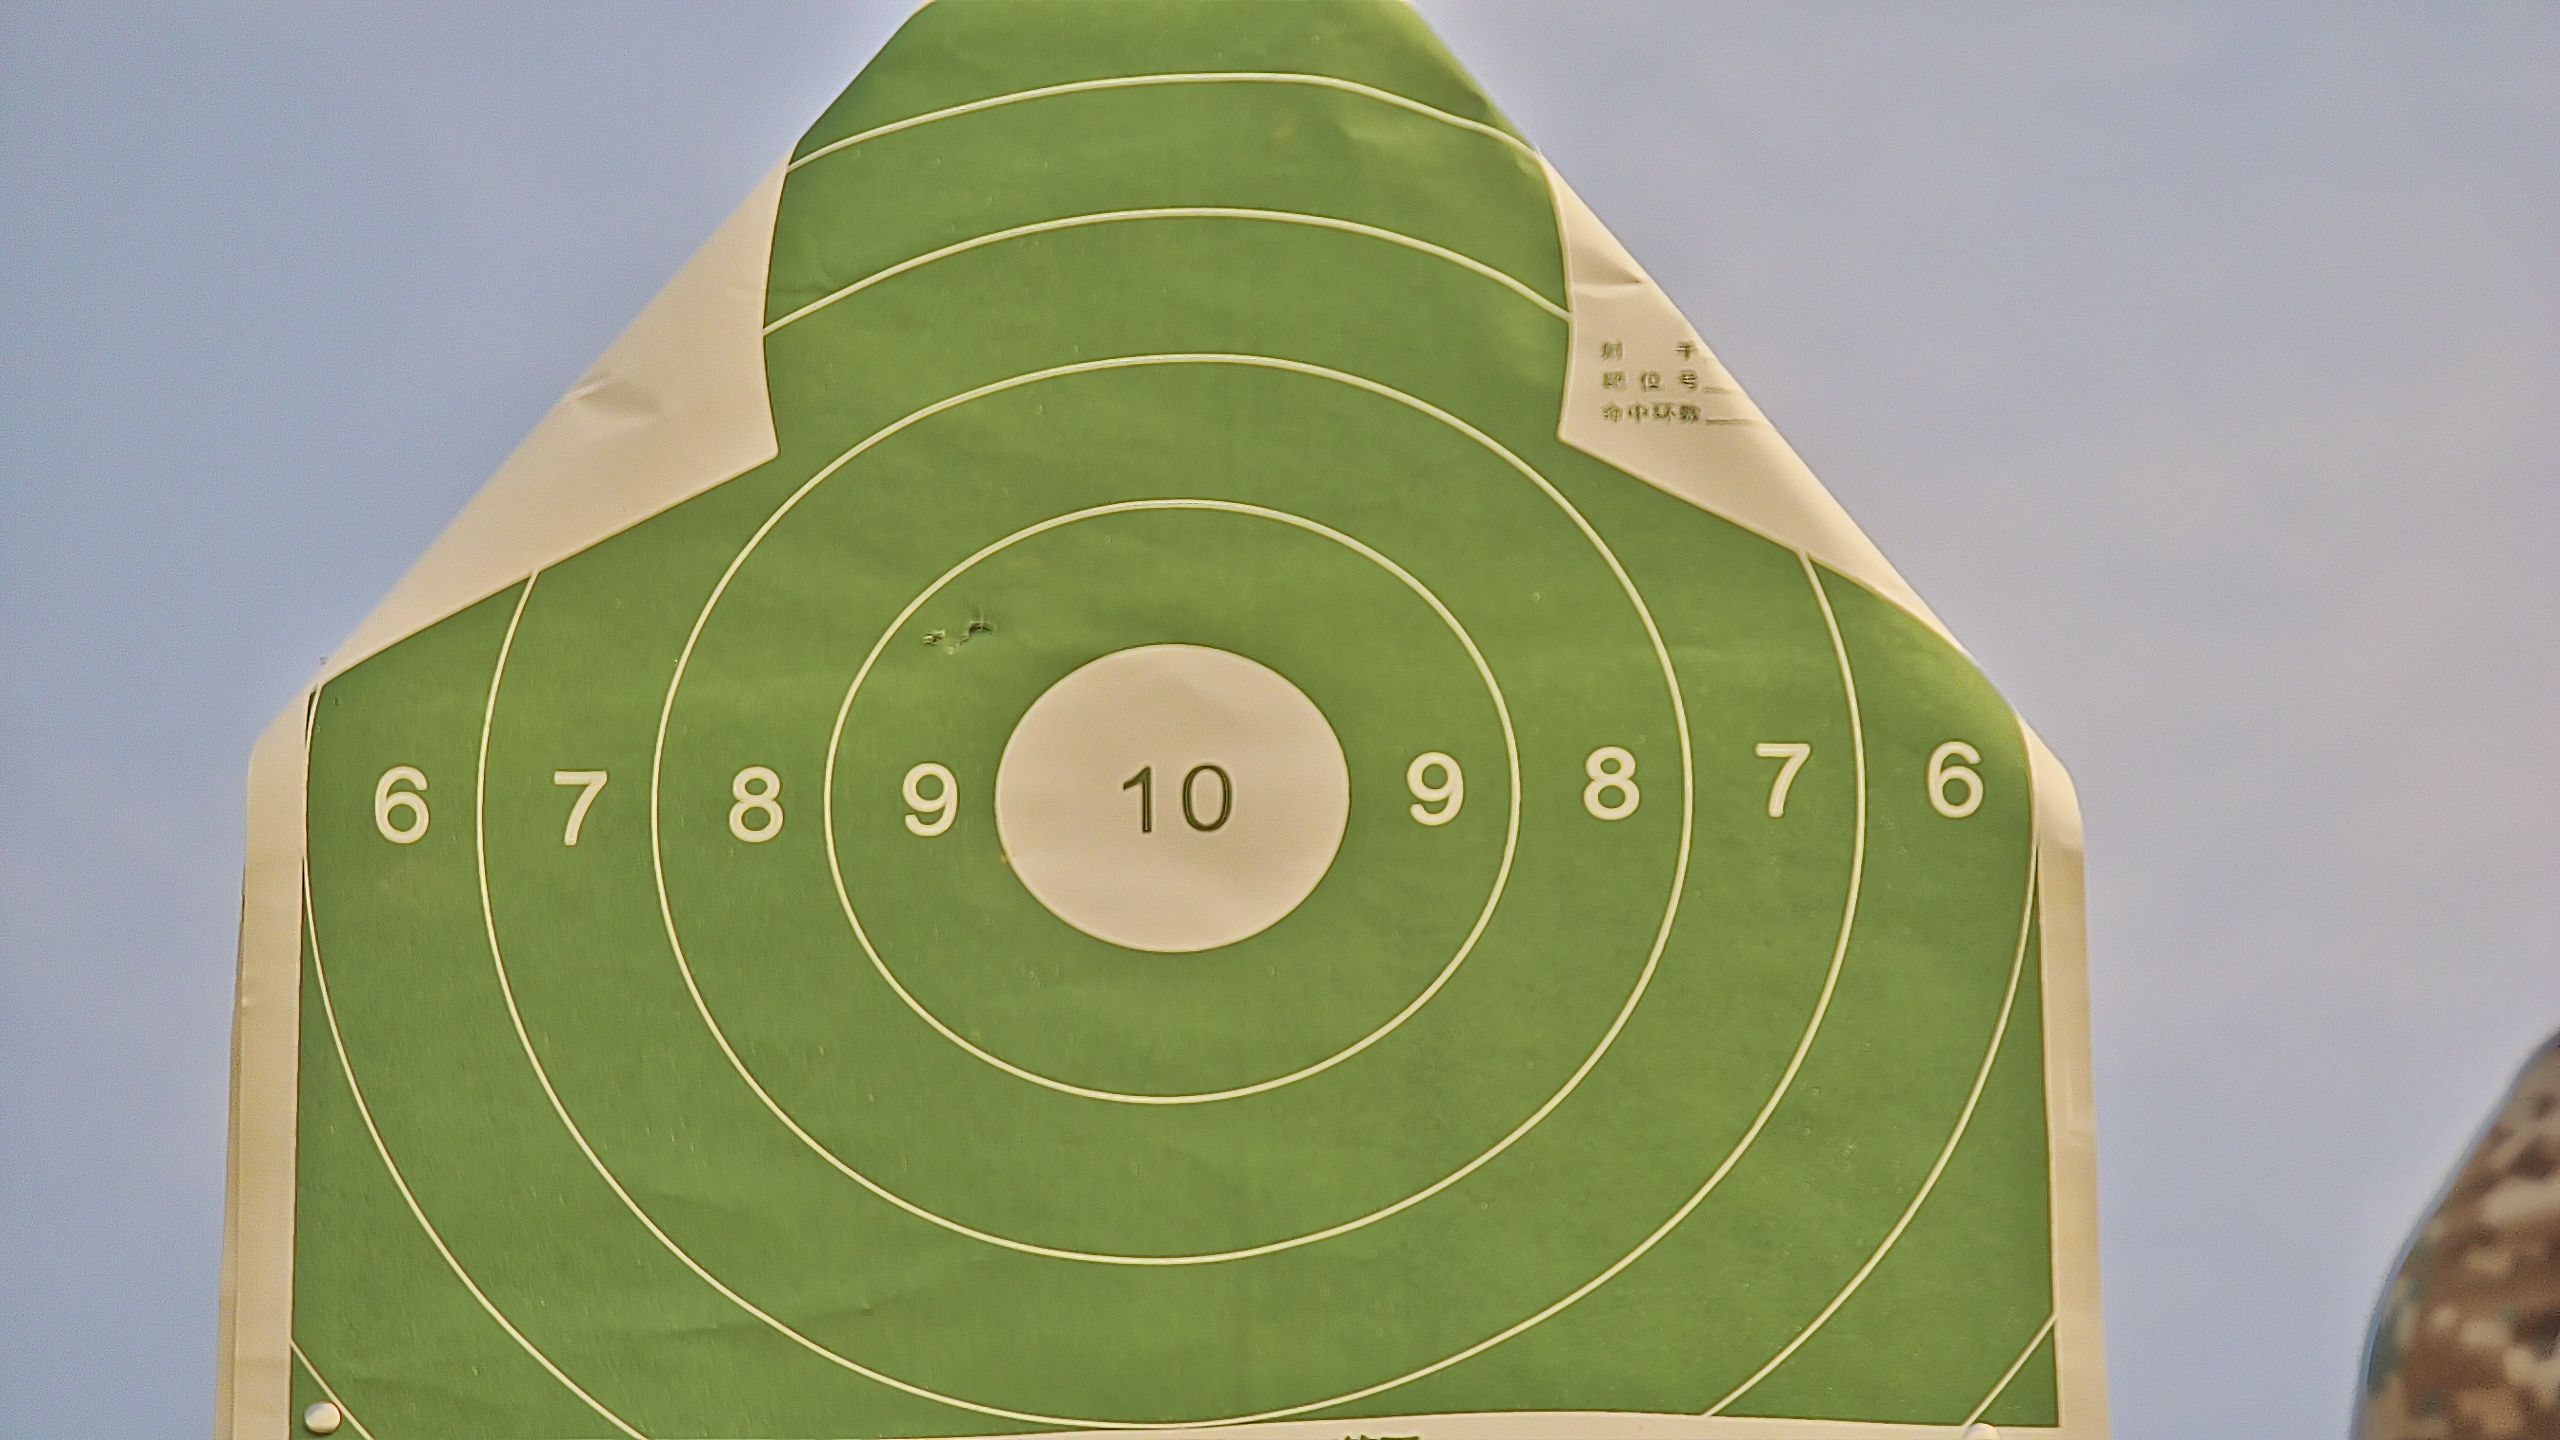target: (295, 5, 2055, 1440)
ten: (988, 638, 1354, 955)
